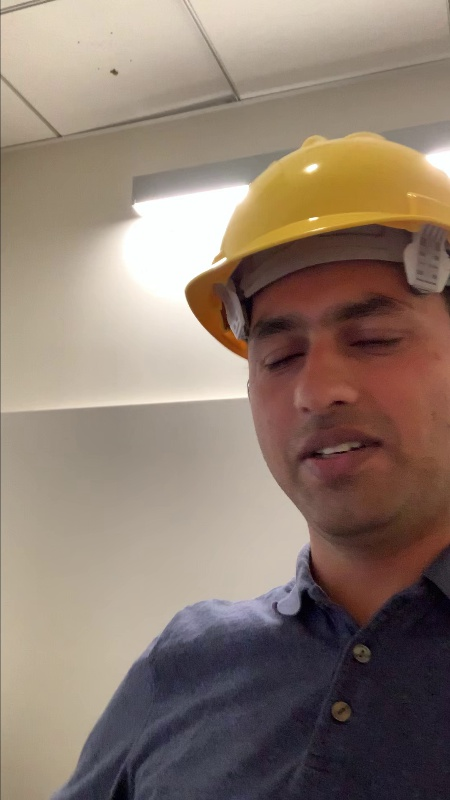helmet: (177, 132, 450, 308)
